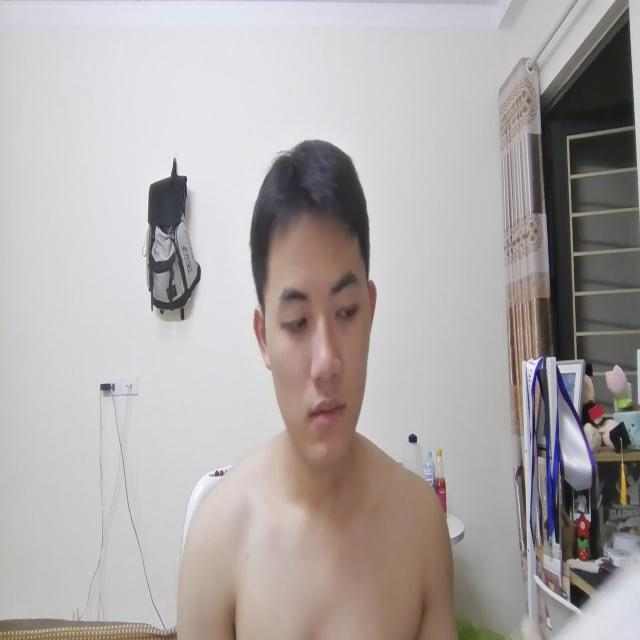student: (177, 129, 459, 640)
